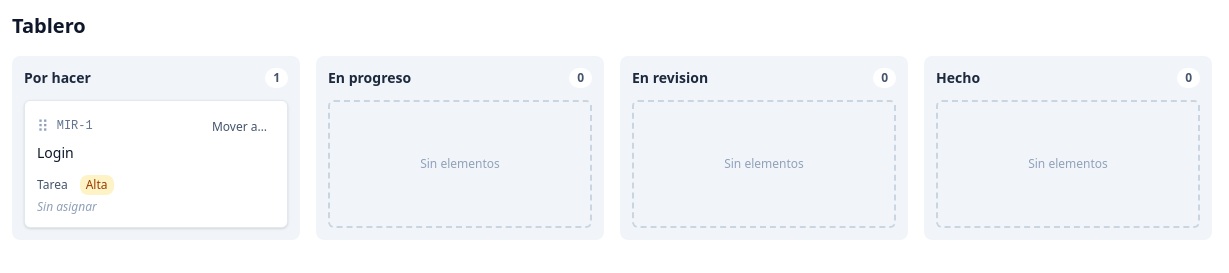
Test: KanbanBoard › mover tarjetas con el menu "Mover a…" (MIR-19) › un clic fuera del menu lo cierra sin mover la tarjeta
The width and height of the screenshot is (1229, 273).
Click the button "Mover a…". click: (239, 127)
box: [204,115,275,139]
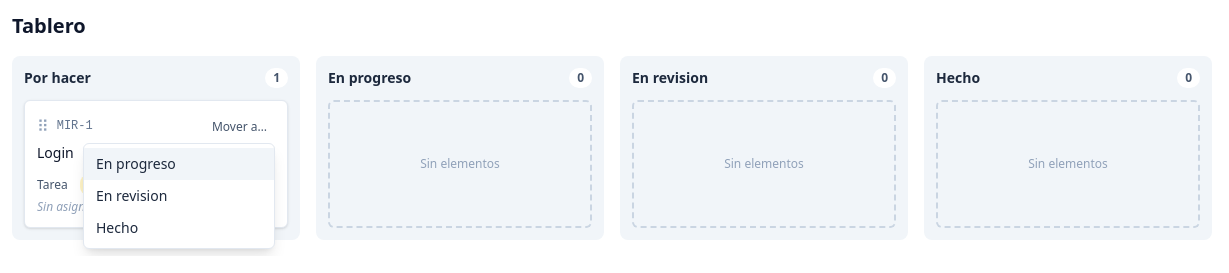
Click the heading "Tablero". click: (49, 26)
box: [12,12,86,39]
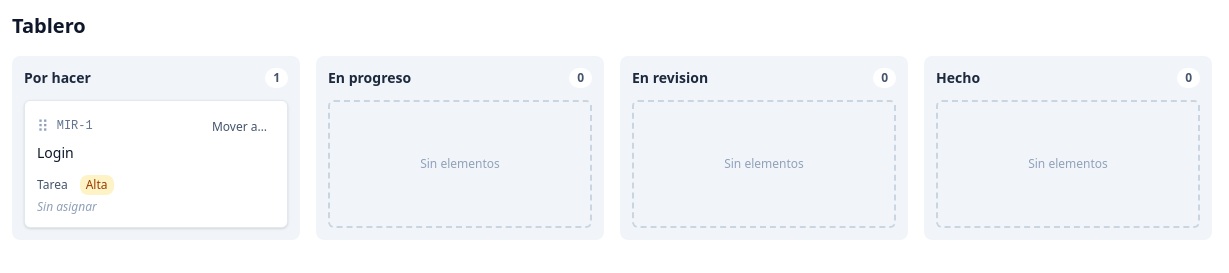
Expected: the menu is gone
